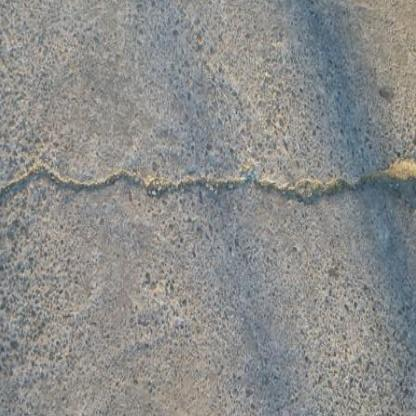Cracks: (0, 130, 416, 254)
